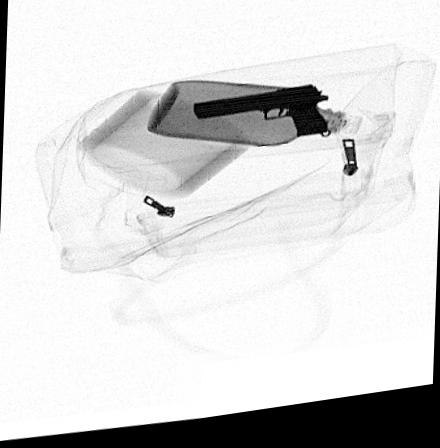Gun: (189, 92, 332, 146)
